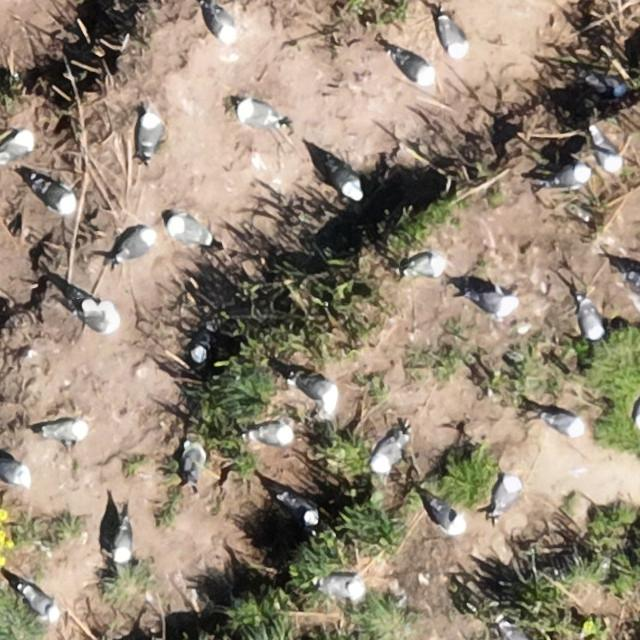umineko: (419, 490, 467, 534), (294, 371, 343, 414), (76, 296, 123, 336), (19, 583, 62, 625), (472, 287, 525, 320), (591, 132, 625, 176), (166, 216, 212, 248), (180, 439, 206, 487), (2, 129, 36, 163), (38, 183, 75, 213), (372, 435, 402, 471), (326, 577, 366, 604), (239, 104, 283, 128), (331, 165, 362, 198), (118, 230, 154, 258), (38, 422, 90, 441), (282, 495, 317, 523), (398, 54, 433, 82), (138, 111, 160, 153), (494, 477, 520, 512), (441, 19, 466, 55), (252, 425, 294, 446), (545, 412, 583, 435), (211, 8, 237, 41), (581, 304, 604, 339), (554, 165, 590, 186), (406, 254, 442, 275), (114, 526, 133, 562), (1, 460, 27, 486), (192, 336, 208, 364), (502, 625, 532, 639)
